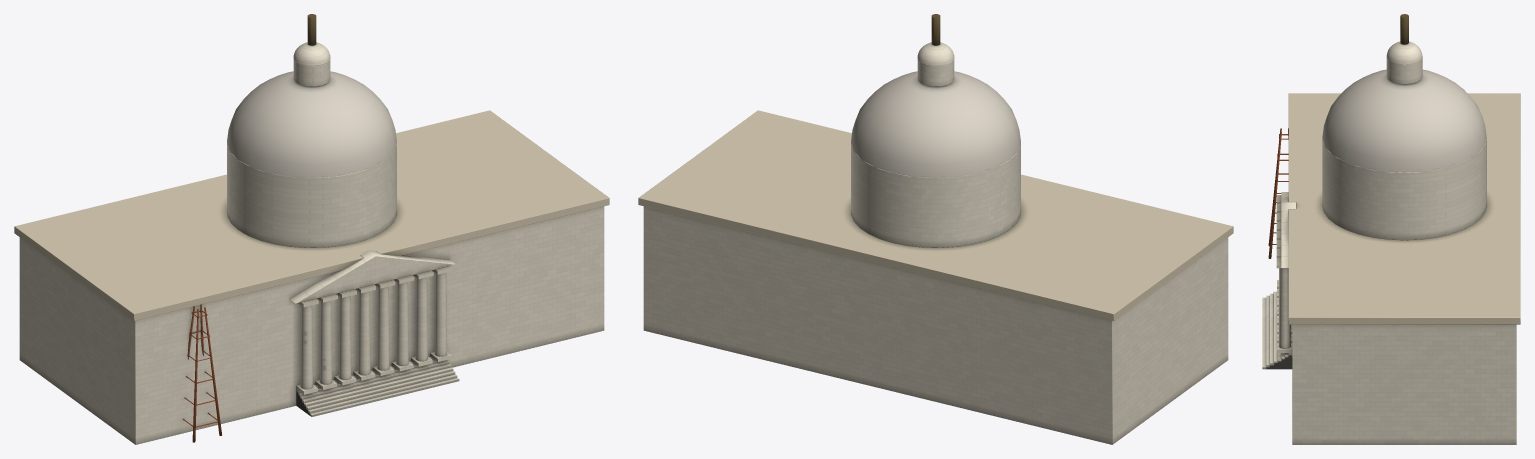
Rendered from capitolio_ok.glb.
The picture shows the model from 3 angles, left to right: view 1: azimuth 30°, elevation 25°; view 2: azimuth 150°, elevation 25°; view 3: azimuth 270°, elevation 25°; orthographic projection. The views are drawn at different scales.
Visible parts, largest first — view 1: capitolio_ok; view 2: capitolio_ok; view 3: capitolio_ok.
Boxes of the visible parts, x1,y1,x2,y2 form: capitolio_ok: (14, 14, 609, 444); capitolio_ok: (638, 14, 1233, 444); capitolio_ok: (1262, 14, 1520, 444).
Size of the model in its own units: 71 by 47.02 by 34.5.
1 material, 1 textured.
